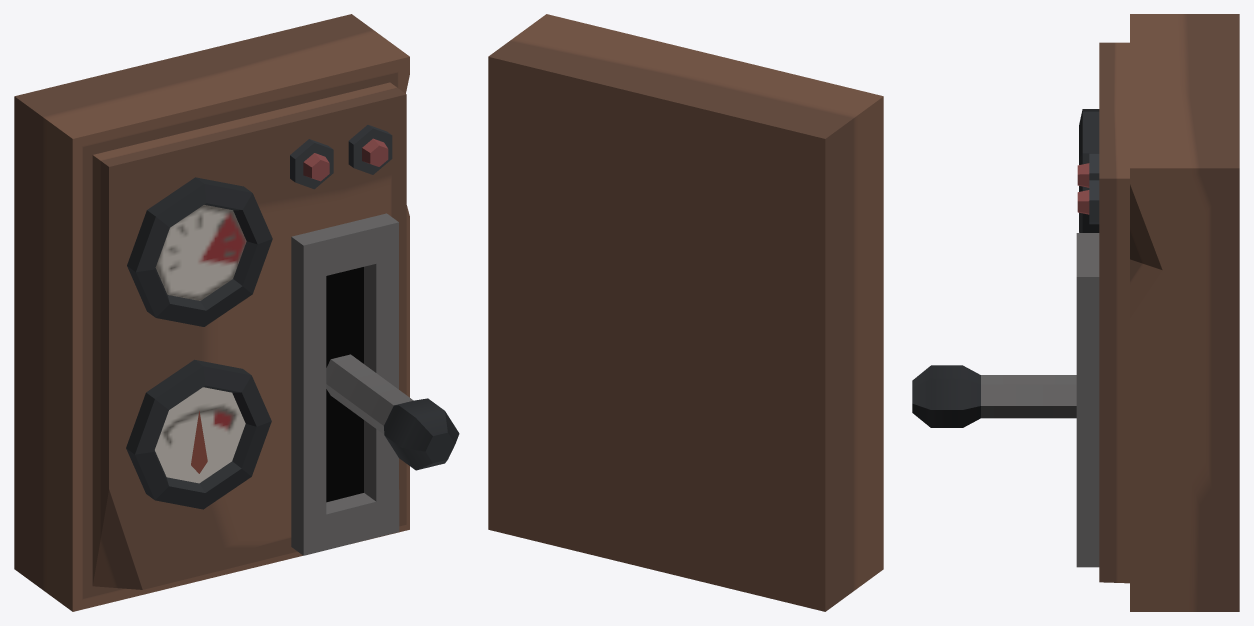
File: SM_Prop_Greeble_02.fbx
The picture shows the model from 3 angles, left to right: view 1: azimuth 30°, elevation 25°; view 2: azimuth 150°, elevation 25°; view 3: azimuth 270°, elevation 25°; orthographic projection. The views are drawn at different scales.
Visible parts, largest first — view 1: SM_Prop_Greeble_02; view 2: SM_Prop_Greeble_02; view 3: SM_Prop_Greeble_02.
Part boxes in pixels (<box>): SM_Prop_Greeble_02: <box>14,14,459,611</box>; SM_Prop_Greeble_02: <box>488,14,883,611</box>; SM_Prop_Greeble_02: <box>912,14,1239,611</box>.
Size of the model in its own units: 47.44 by 63.58 by 42.51.
